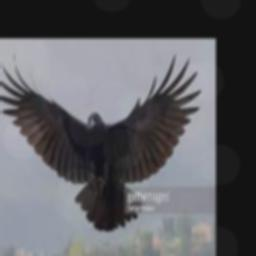Crow: (0, 51, 201, 230)
